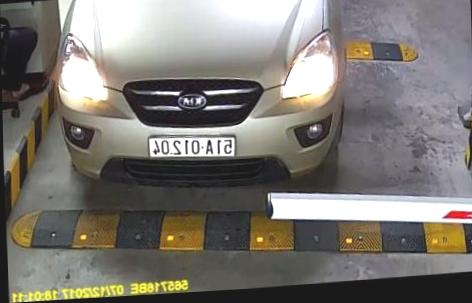License_Plate: (144, 125, 235, 166)
